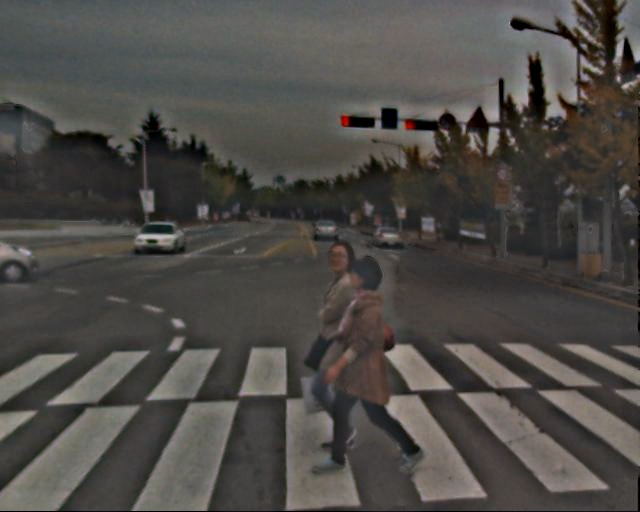person: (318, 257, 414, 474), (305, 238, 381, 450)
